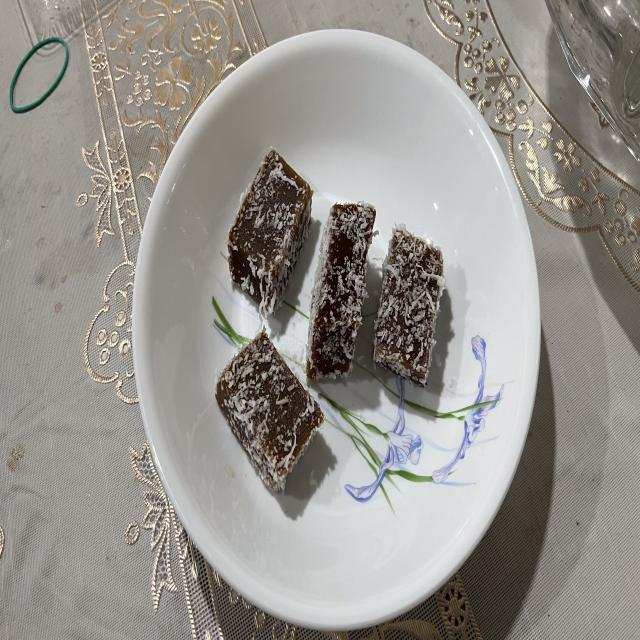kaswi: (216, 331, 324, 491), (228, 149, 312, 316), (306, 202, 376, 380), (374, 224, 445, 387)
